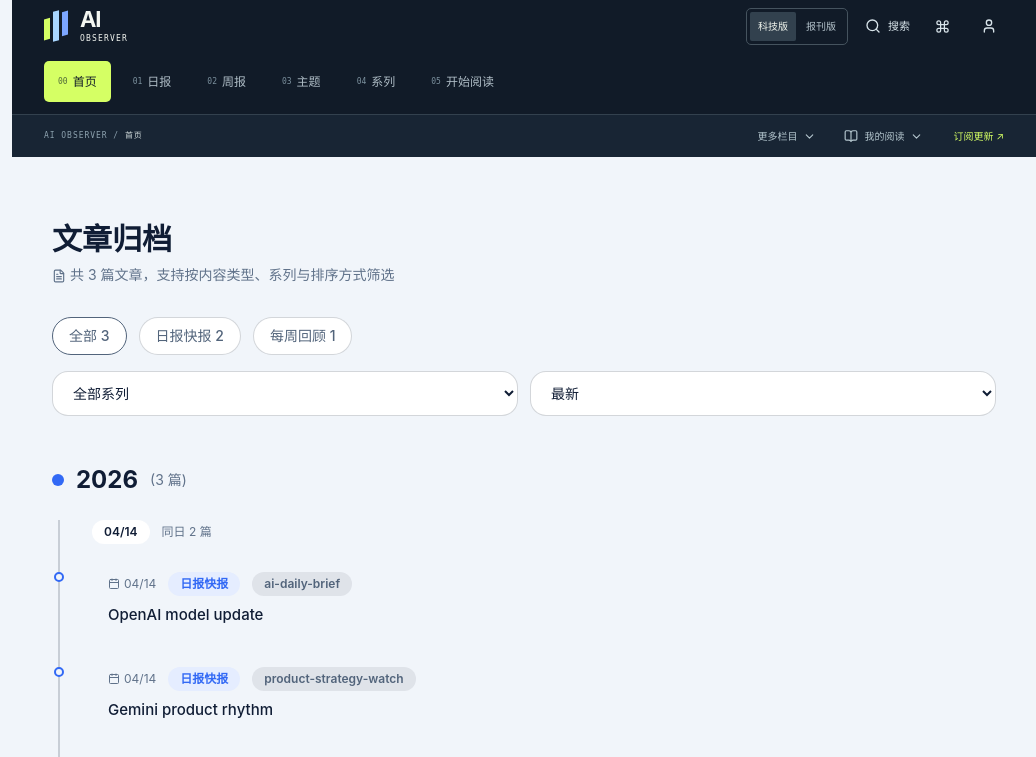
renders archive groups and supports content-type filtering
Expected: the heading "文章归档" is shown, [52, 221, 172, 257]
Expected: the text "OpenAI model update" is shown, [108, 605, 263, 624]
Click the button "每周回顾 1" at (303, 336), box [253, 317, 352, 355]
(page scrolled)
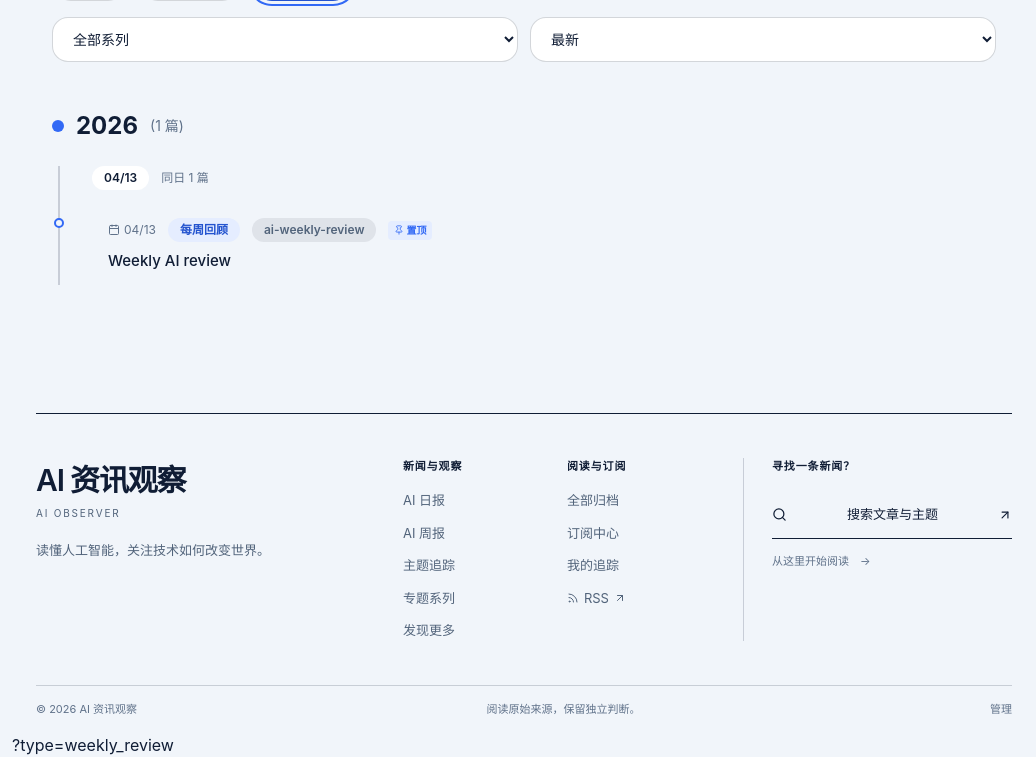
Expected: the text "Weekly AI review" is shown, [108, 251, 231, 270]
Now the link "OpenAI model update" is gone
Now the text with test id "location" shows "type=weekly_review", box [12, 734, 174, 754]
